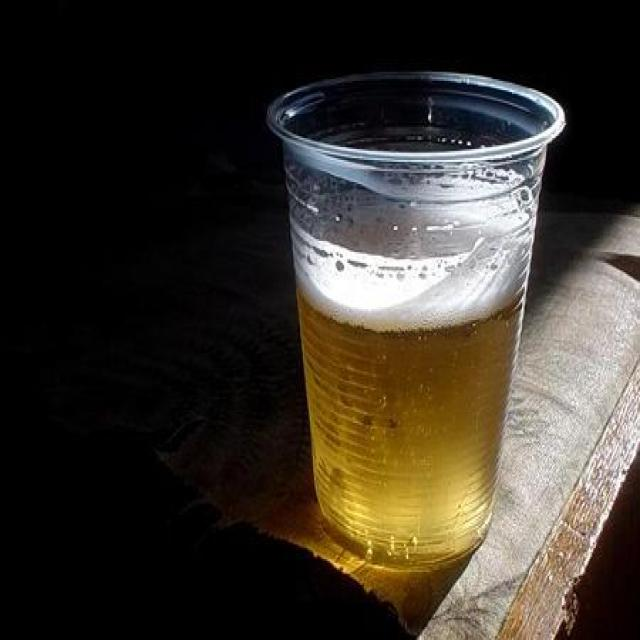Cup: (259, 58, 567, 571)
